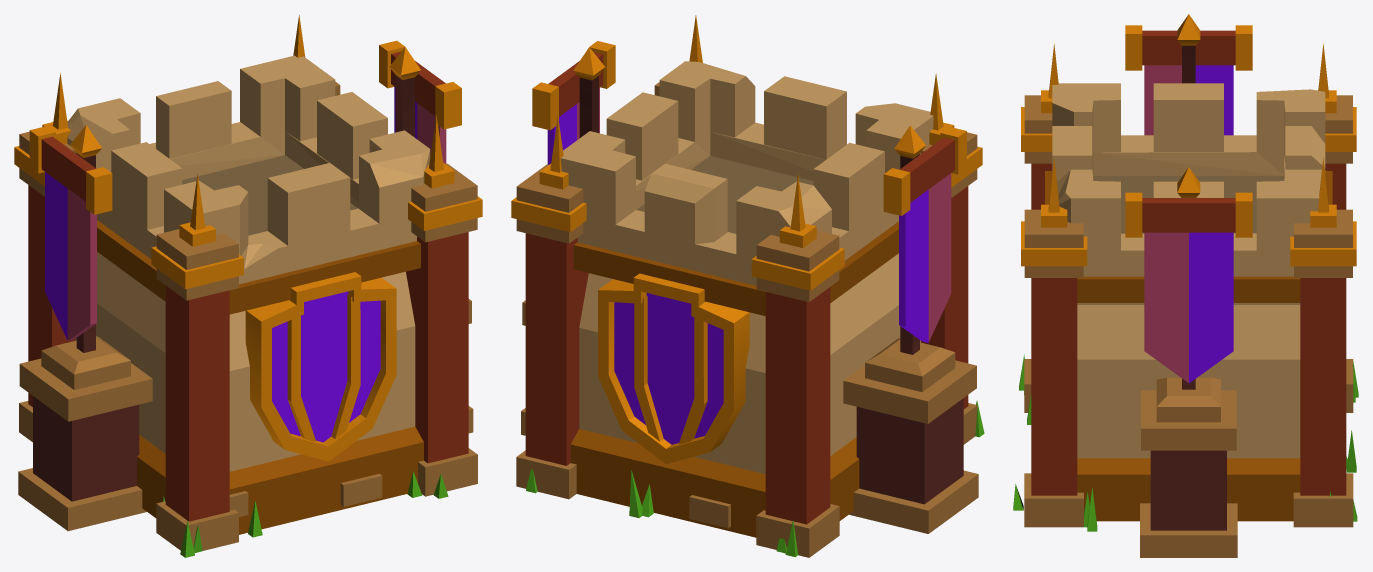
3 renders of one model, left to right at view 1: azimuth 30°, elevation 25°; view 2: azimuth 150°, elevation 25°; view 3: azimuth 270°, elevation 25°, orthographic. The views are drawn at different scales.
Parts seen in each view (by area): view 1: base_3; view 2: base_3; view 3: base_3.
Boxes of the visible parts, x1,y1,x2,y2 form: base_3: (14,15,482,557); base_3: (511,15,984,557); base_3: (1013,14,1358,557).
Size of the model in its own units: 522 by 465 by 392.
